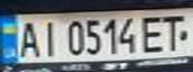0: (63, 17, 84, 56)
1: (100, 16, 121, 55)
4: (115, 15, 142, 54)
5: (81, 16, 103, 56)
A: (15, 18, 42, 58)
E: (136, 12, 169, 54)
I: (36, 18, 63, 57)
T: (157, 11, 190, 52)
